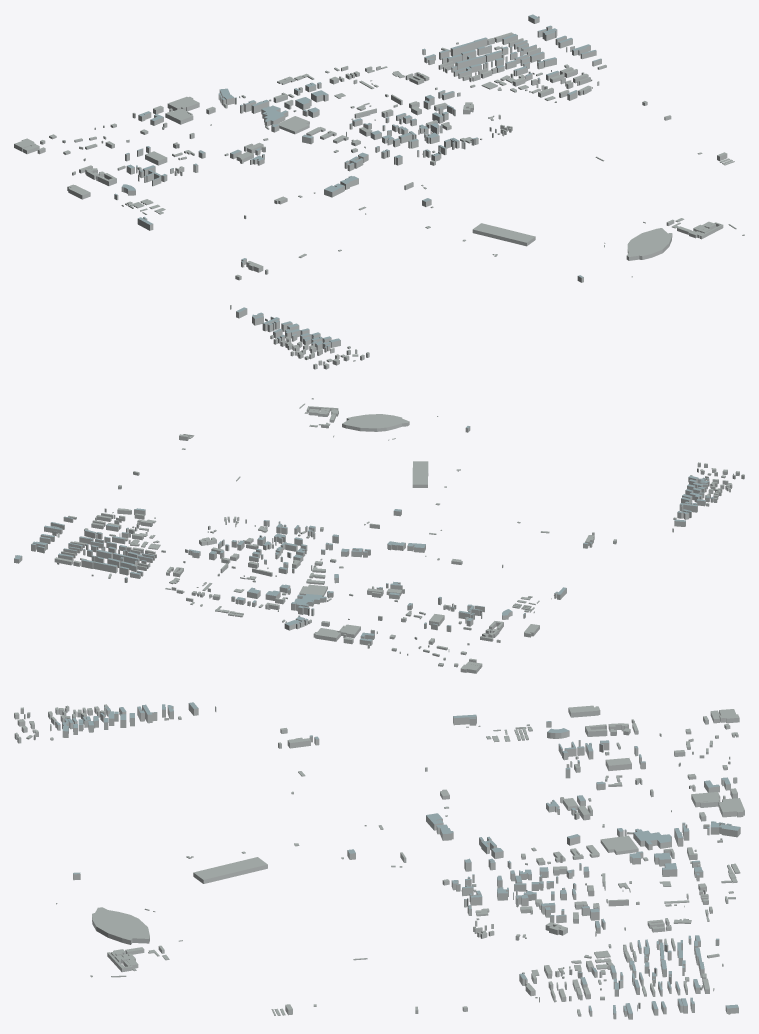
Rendered from far.glb.
3 renders of one model, top to bottom at view 1: azimuth 30°, elevation 25°; view 2: azimuth 150°, elevation 25°; view 3: azimuth 270°, elevation 25°, orthographic. The views are drawn at different scales.
Bounding box in the file's own units: 2138 × 29.9 × 2127.
